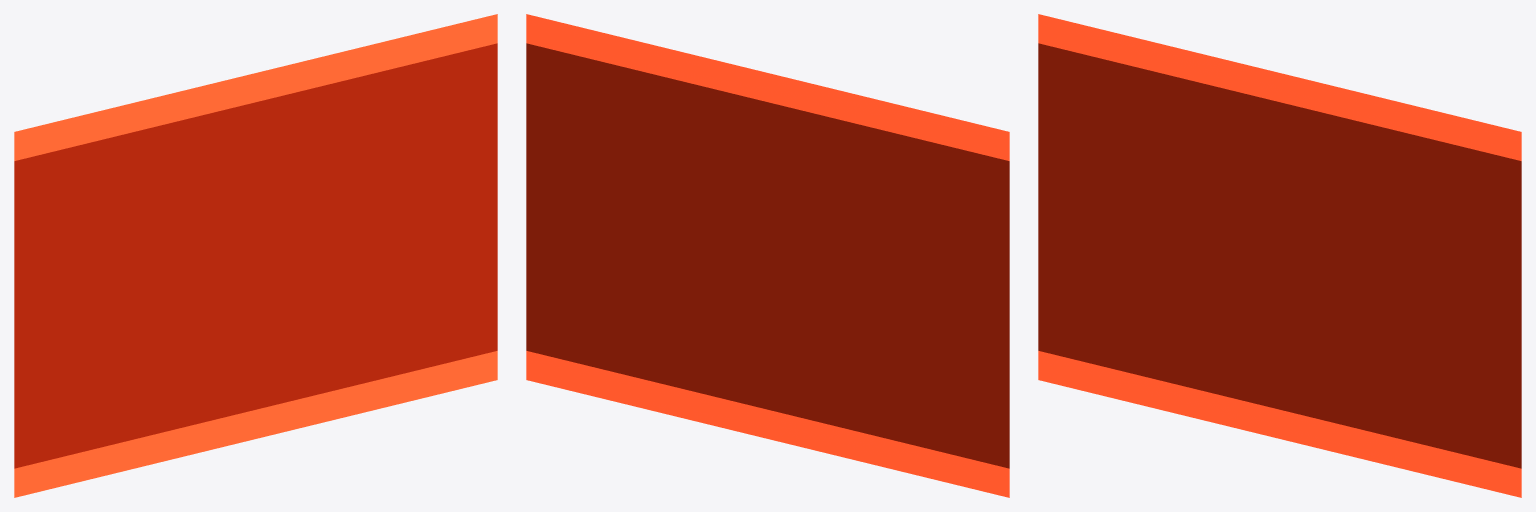
Rendered from name_BG_red_mid.glb.
3 views of the same model, side by side, from view 1: azimuth 30°, elevation 25°; view 2: azimuth 150°, elevation 25°; view 3: azimuth 330°, elevation 25° (orthographic).
Visible parts, largest first — view 1: name_red_BG_mid; view 2: name_red_BG_mid; view 3: name_red_BG_mid.
Boxes of the visible parts, x1,y1,x2,y2 form: name_red_BG_mid: (14, 14, 497, 497); name_red_BG_mid: (526, 14, 1009, 497); name_red_BG_mid: (1038, 14, 1521, 497).
Bounding box in the file's own units: 1 × 0.7236 × 1.88e-07.
